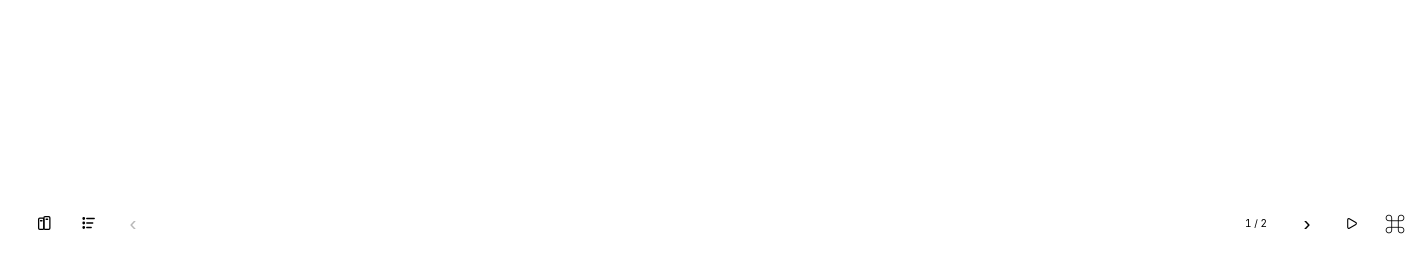
Test case: 收藏当前位置后写进书签并渲染出来
Click the button named "目录": [89, 223] box [72,206,106,240]
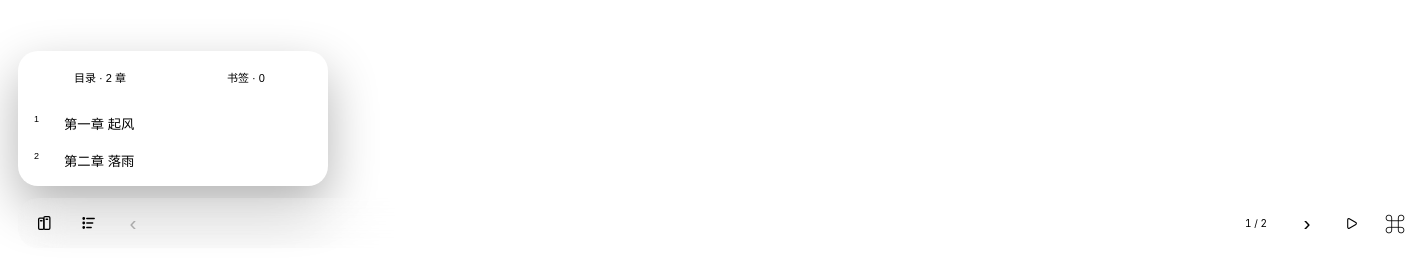
Click the button "书签 · 0": [246, 77] box [176,62,316,92]
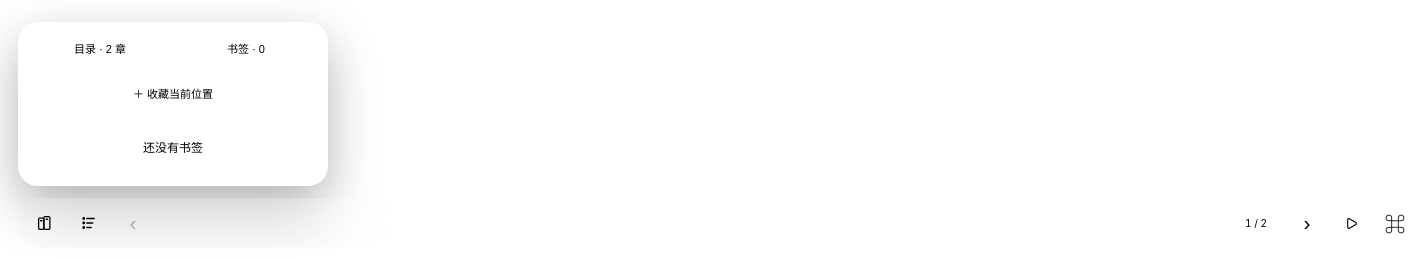
Click the button "＋ 收藏当前位置": [173, 93] box [25,76,321,110]
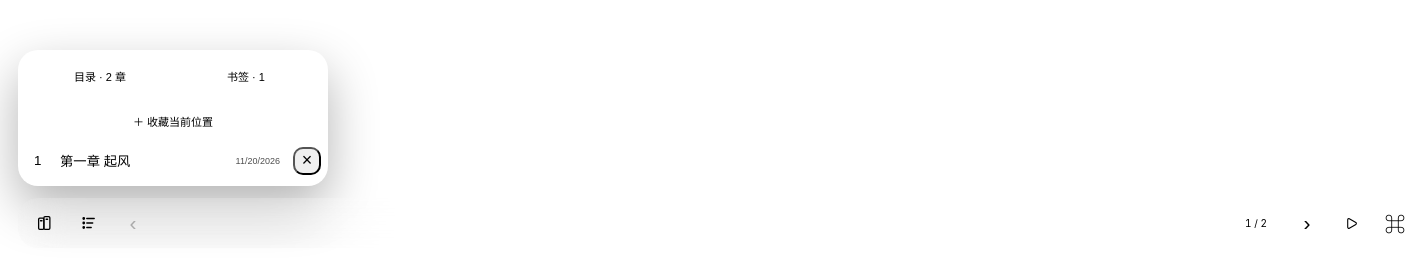
Expected: the button "书签 · 1" is shown, [176,61,316,91]
Expected: the text "第一章 起风" is shown, [60,154,130,169]
